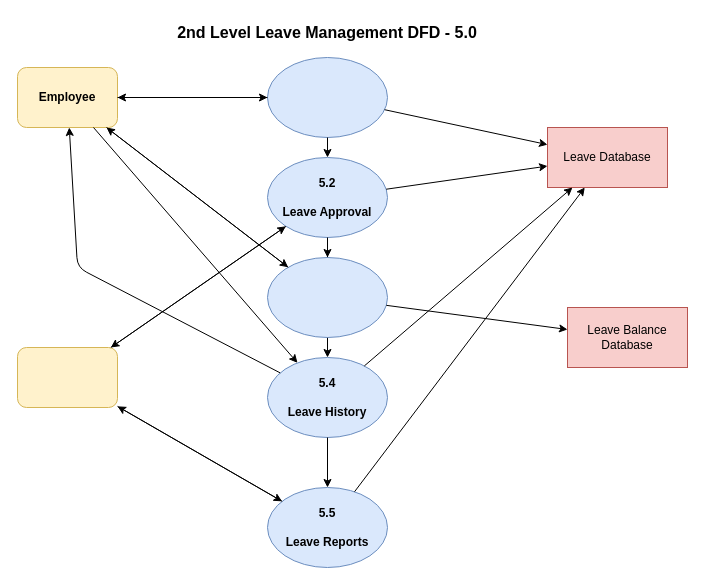
This 705x585 diagram has some shape labels left out. Here are the shapes that lost their labels. From the top down, the centre of each, then its label:
At [327,97]: "5.1 Leave Application".
At [327,297]: "5.3 Leave Balance".
At [67,377]: "Manager".
